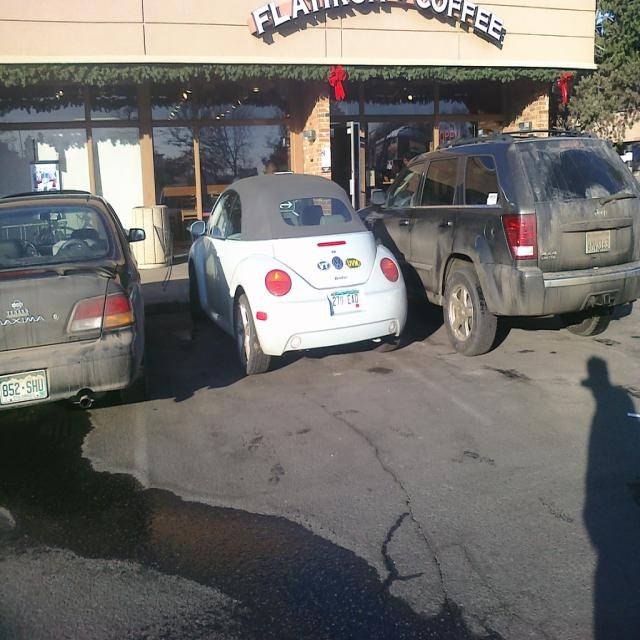car: (188, 167, 411, 372)
